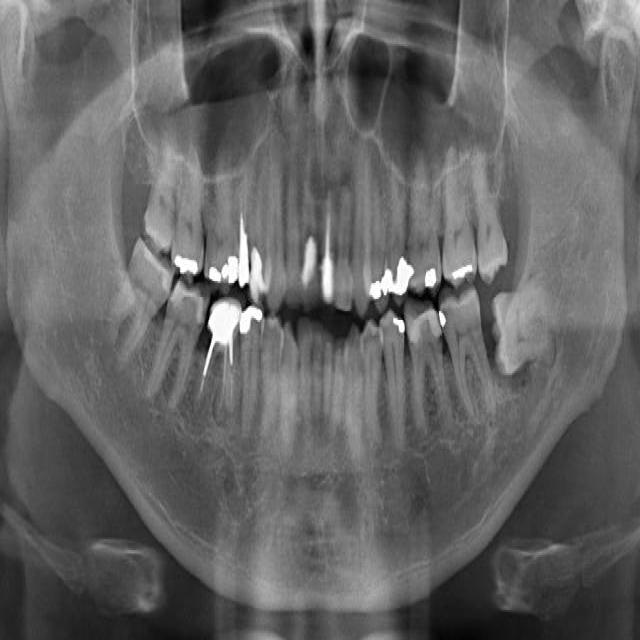dolgu: (235, 214, 272, 298), (435, 289, 483, 348), (368, 254, 417, 304), (442, 216, 476, 286), (204, 234, 241, 294), (300, 234, 324, 300), (168, 238, 201, 284), (386, 298, 411, 353), (240, 301, 267, 350), (417, 257, 445, 292)
kanal-tedavisi: (199, 332, 239, 403), (322, 183, 335, 256)
kaplama: (202, 295, 245, 345), (318, 252, 338, 304)
